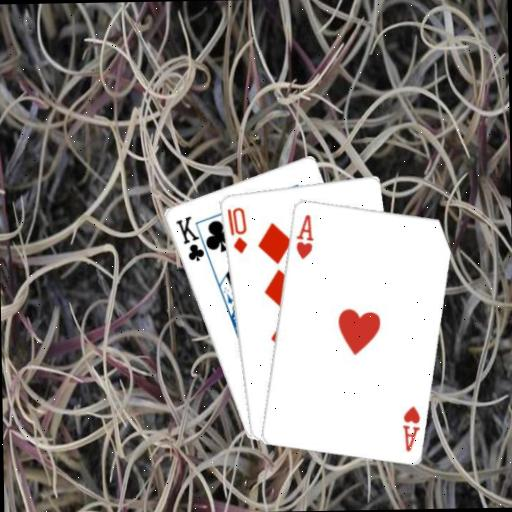10D: (223, 204, 248, 255)
AH: (398, 403, 422, 453), (291, 211, 315, 260)
KC: (172, 212, 213, 264)
